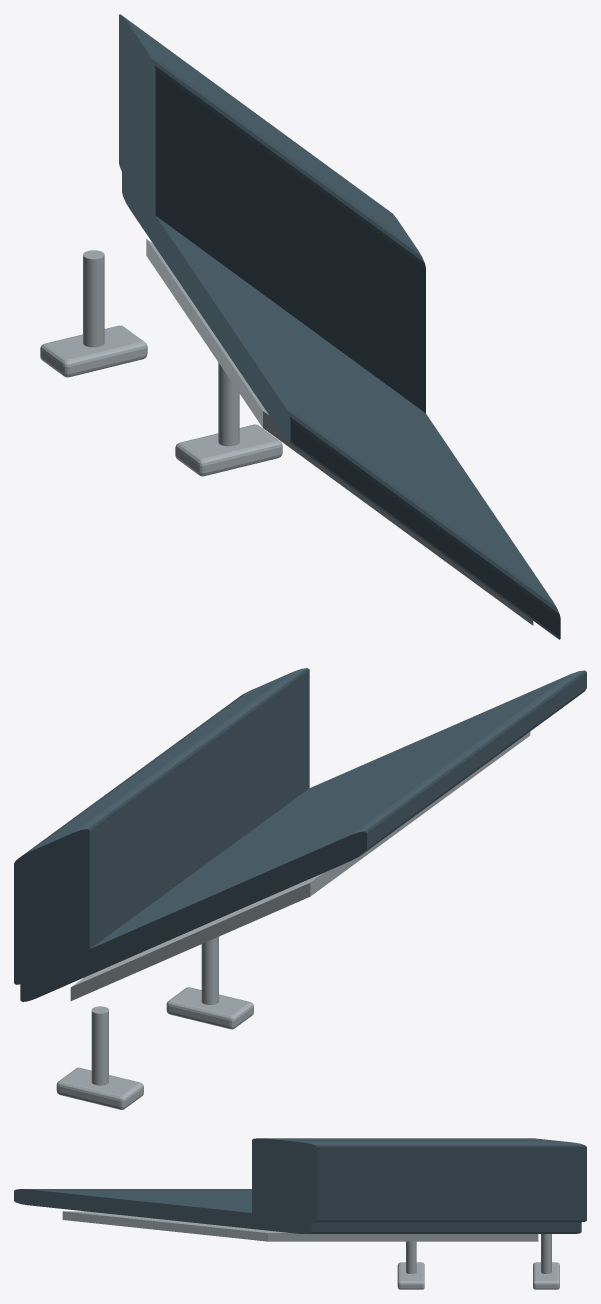
Rendered from cabin_bench_length_200cm_left.glb.
3 renders of one model, top to bottom at view 1: azimuth 30°, elevation 25°; view 2: azimuth 150°, elevation 25°; view 3: azimuth 270°, elevation 25°, orthographic. The views are drawn at different scales.
Visible parts, largest first — view 1: Bench upright back.019, Bench seat cushion.019, Bench support beam.019, Bench foot.048, Bench foot.049, Bench pedestal.049, Bench pedestal.048; view 2: Bench upright back.019, Bench seat cushion.019, Bench support beam.019, Bench foot.048, Bench foot.049, Bench pedestal.049, Bench pedestal.048; view 3: Bench upright back.019, Bench seat cushion.019, Bench support beam.019, Bench foot.048, Bench foot.049, Bench pedestal.049, Bench pedestal.048.
Part boxes in pixels (x1=…): Bench upright back.019: x1=119, y1=14, x2=425, y2=413; Bench seat cushion.019: x1=122, y1=170, x2=560, y2=639; Bench support beam.019: x1=146, y1=239, x2=533, y2=625; Bench foot.048: x1=175, y1=424, x2=282, y2=476; Bench foot.049: x1=40, y1=325, x2=147, y2=377; Bench pedestal.049: x1=83, y1=250, x2=104, y2=347; Bench pedestal.048: x1=218, y1=362, x2=239, y2=446; Bench upright back.019: x1=14, y1=668, x2=309, y2=984; Bench seat cushion.019: x1=20, y1=670, x2=586, y2=1001; Bench support beam.019: x1=70, y1=732, x2=530, y2=1000; Bench foot.048: x1=166, y1=987, x2=253, y2=1029; Bench foot.049: x1=56, y1=1067, x2=143, y2=1109; Bench pedestal.049: x1=91, y1=1006, x2=108, y2=1085; Bench pedestal.048: x1=201, y1=936, x2=218, y2=1004; Bench upright back.019: x1=252, y1=1138, x2=586, y2=1222; Bench seat cushion.019: x1=14, y1=1189, x2=581, y2=1233; Bench support beam.019: x1=62, y1=1211, x2=538, y2=1241; Bench foot.048: x1=397, y1=1262, x2=424, y2=1289; Bench foot.049: x1=533, y1=1262, x2=559, y2=1289; Bench pedestal.049: x1=541, y1=1234, x2=551, y2=1273; Bench pedestal.048: x1=406, y1=1241, x2=416, y2=1273.
Size of the model in its own units: 0.56 by 1.25 by 4.24.
